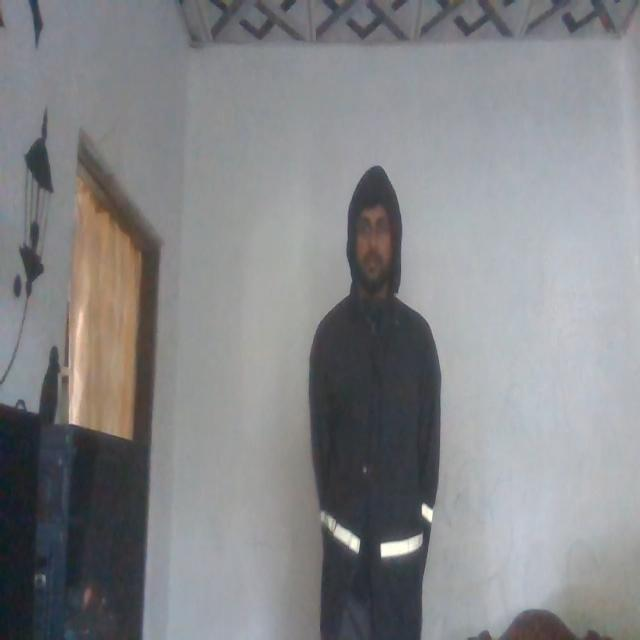Jacket_Wearer: (307, 280, 439, 582)
Person: (311, 160, 445, 640)
